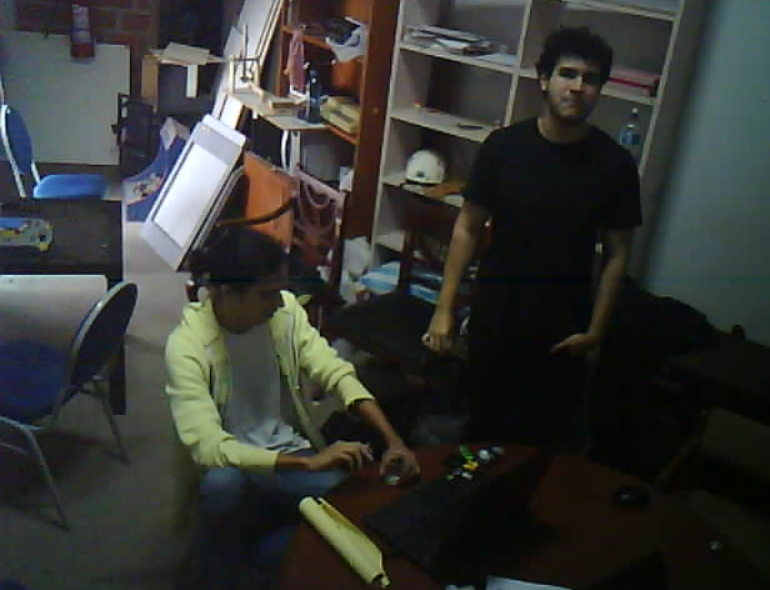person: (421, 22, 664, 451), (156, 221, 428, 590)
